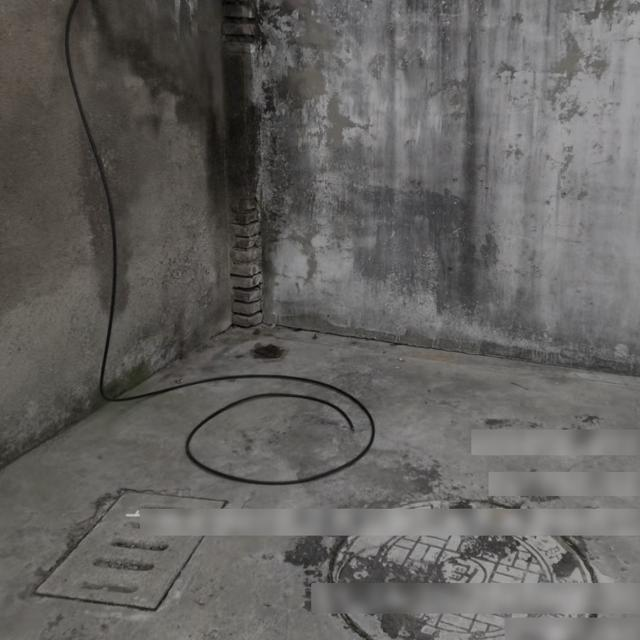good: (319, 498, 616, 640)
